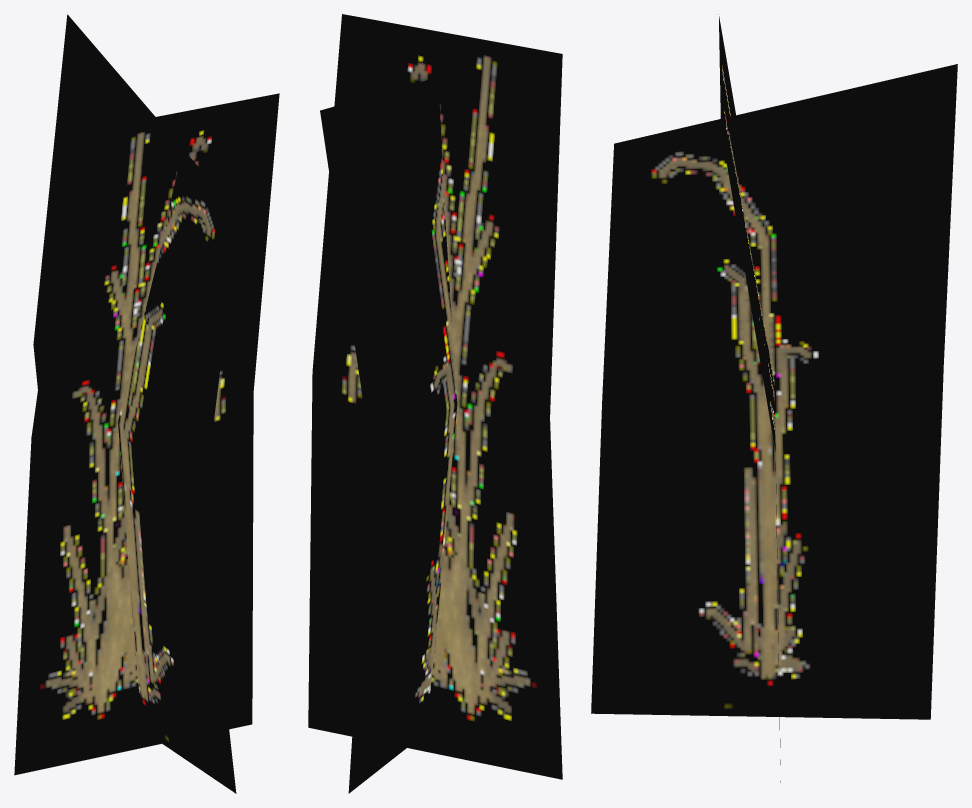
Rendered from valley-dry-grass-2.glb.
3 views of the same model, side by side, from view 1: azimuth 30°, elevation 25°; view 2: azimuth 150°, elevation 25°; view 3: azimuth 270°, elevation 25° (orthographic). The views are drawn at different scales.
Visible parts, largest first — view 1: clump_dry_grass_5_M_dry_grass_0; view 2: clump_dry_grass_5_M_dry_grass_0; view 3: clump_dry_grass_5_M_dry_grass_0.
Boxes of the visible parts, x1=… form: clump_dry_grass_5_M_dry_grass_0: x1=14, y1=14, x2=279, y2=793; clump_dry_grass_5_M_dry_grass_0: x1=308, y1=14, x2=562, y2=793; clump_dry_grass_5_M_dry_grass_0: x1=591, y1=14, x2=957, y2=782.
Size of the model in its own units: 0.2053 by 0.55 by 0.2683.
1 material, 1 textured.
